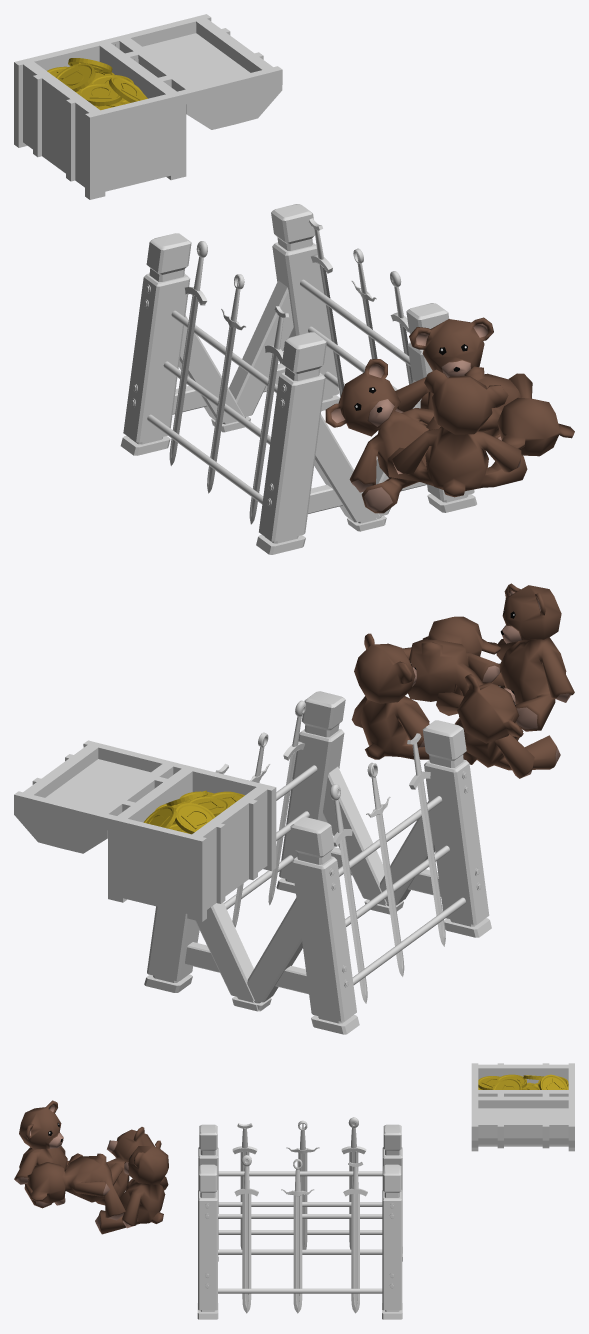
Rendered from Items.fbx.
3 views of the same model, one above another, from view 1: azimuth 30°, elevation 25°; view 2: azimuth 150°, elevation 25°; view 3: azimuth 270°, elevation 25° (orthographic). The views are drawn at different scales.
Parts seen in each view (by area): view 1: weapons rack with swords, Chest, weapons rack with swords.001, obj_teddy, obj_teddy.004, obj_teddy.002, obj_teddy.001, Cylinder.009, Cylinder.007; view 2: weapons rack with swords, Chest, weapons rack with swords.001, obj_teddy, obj_teddy.001, obj_teddy.004, obj_teddy.002, Cylinder.009; view 3: weapons rack with swords.001, Chest, weapons rack with swords, obj_teddy.002, obj_teddy.001, obj_teddy, obj_teddy.004, Cylinder.010.
Boxes of the visible parts, x1,y1,x2,y2 form: weapons rack with swords: [120, 233, 385, 554]; Chest: [14, 14, 282, 199]; weapons rack with swords.001: [223, 204, 476, 524]; obj_teddy: [387, 369, 527, 497]; obj_teddy.004: [325, 359, 433, 513]; obj_teddy.002: [426, 366, 574, 456]; obj_teddy.001: [395, 317, 501, 440]; Cylinder.009: [55, 63, 95, 91]; Cylinder.007: [78, 83, 122, 105]; weapons rack with swords: [236, 720, 491, 1034]; Chest: [14, 740, 276, 921]; weapons rack with swords.001: [144, 691, 390, 1011]; obj_teddy: [493, 583, 574, 731]; obj_teddy.001: [351, 633, 466, 759]; obj_teddy.004: [436, 674, 560, 778]; obj_teddy.002: [402, 616, 500, 701]; Cylinder.009: [175, 803, 214, 834]; weapons rack with swords.001: [197, 1155, 402, 1319]; Chest: [471, 1063, 574, 1151]; weapons rack with swords: [198, 1117, 402, 1261]; obj_teddy.002: [27, 1153, 125, 1220]; obj_teddy.001: [95, 1140, 168, 1234]; obj_teddy: [14, 1100, 69, 1208]; obj_teddy.004: [96, 1127, 154, 1205]; Cylinder.010: [539, 1074, 568, 1089].
Bounding box in the file's own units: 96.76 × 127 × 324.
